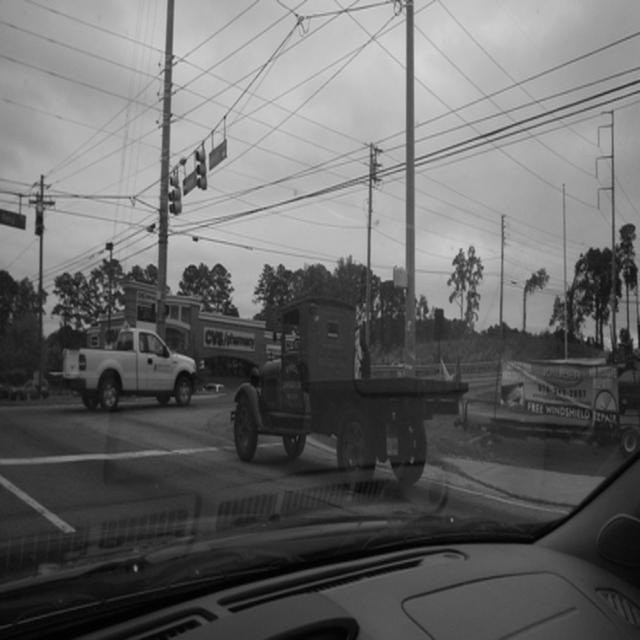car: (10, 376, 46, 399), (201, 379, 223, 390)
pole: (153, 0, 178, 339), (401, 2, 418, 374), (35, 170, 48, 394)
truck: (229, 298, 464, 489), (61, 319, 195, 408)
